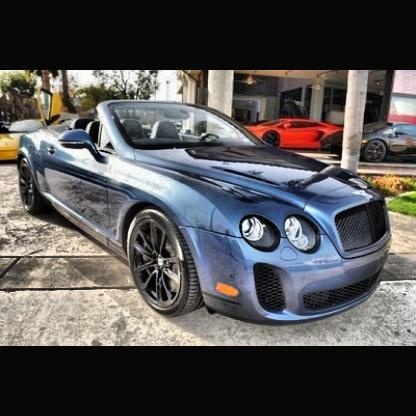Bentley Continental Supersports Conv- Convertible 2012: (19, 102, 393, 327)
